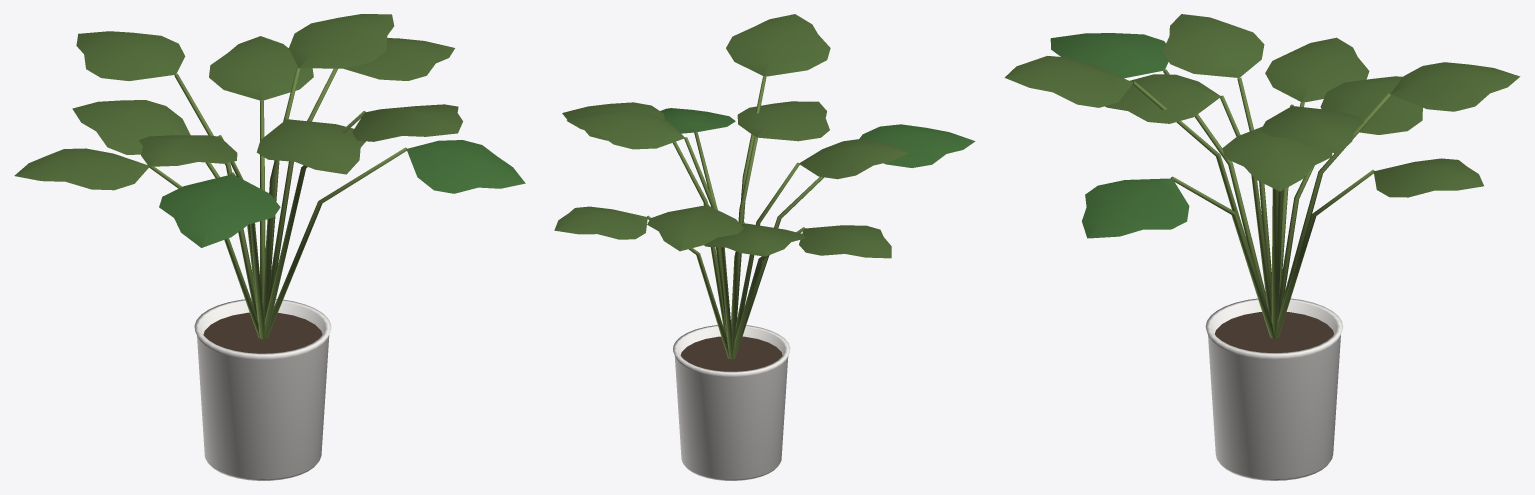
File: plant_monstera.glb
3 views of the same model, side by side, from view 1: azimuth 30°, elevation 25°; view 2: azimuth 150°, elevation 25°; view 3: azimuth 270°, elevation 25° (orthographic). The views are drawn at different scales.
Parts seen in each view (by area): view 1: plant_monstera_leaves, plant_monstera_pot, plant_monstera_stems, plant_monstera_soil; view 2: plant_monstera_leaves, plant_monstera_pot, plant_monstera_stems, plant_monstera_soil; view 3: plant_monstera_leaves, plant_monstera_pot, plant_monstera_stems, plant_monstera_soil.
Part boxes in pixels (bbox=[...]): plant_monstera_leaves: bbox=[14, 14, 525, 247]; plant_monstera_pot: bbox=[194, 299, 331, 480]; plant_monstera_stems: bbox=[149, 67, 406, 339]; plant_monstera_soil: bbox=[203, 312, 322, 353]; plant_monstera_leaves: bbox=[554, 14, 975, 258]; plant_monstera_pot: bbox=[673, 325, 790, 480]; plant_monstera_stems: bbox=[647, 76, 823, 359]; plant_monstera_soil: bbox=[680, 336, 782, 371]; plant_monstera_leaves: bbox=[1004, 14, 1520, 238]; plant_monstera_pot: bbox=[1205, 298, 1343, 480]; plant_monstera_stems: bbox=[1132, 69, 1391, 338]; plant_monstera_soil: bbox=[1215, 312, 1333, 352].
Size of the model in its own units: 0.9317 by 0.8878 by 1.
